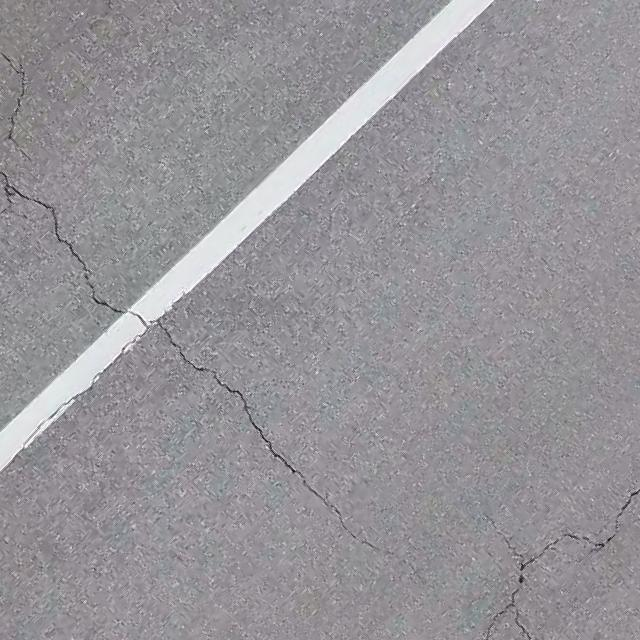GRIETA: (156, 320, 421, 578), (486, 489, 639, 639), (0, 170, 126, 314), (0, 52, 28, 157), (478, 513, 525, 563), (515, 607, 534, 639)
